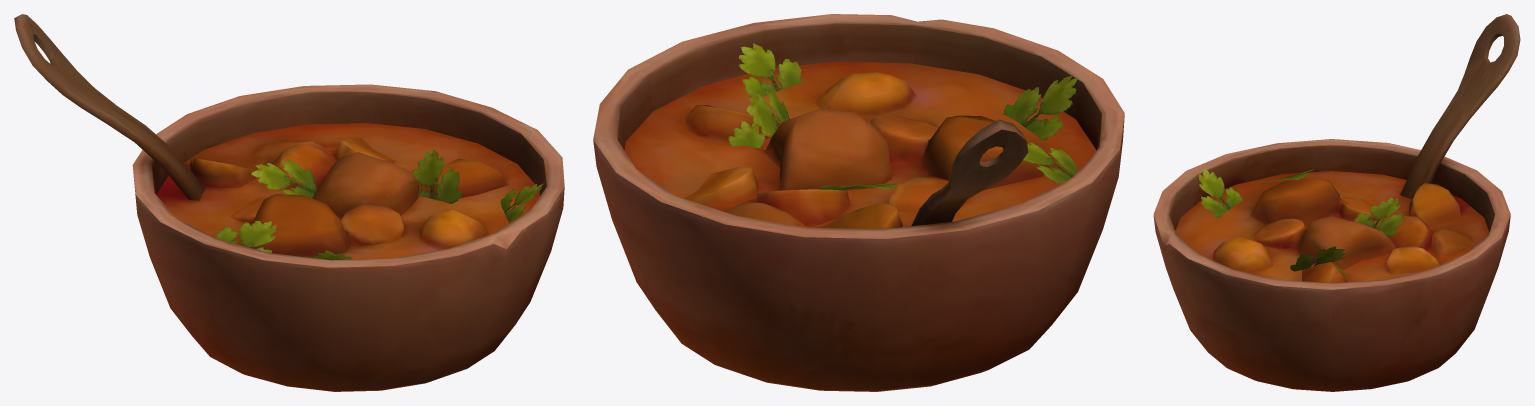
3 views of the same model, side by side, from view 1: azimuth 30°, elevation 25°; view 2: azimuth 150°, elevation 25°; view 3: azimuth 270°, elevation 25° (orthographic). The views are drawn at different scales.
Visible parts, largest first — view 1: SM_Item_Food_Soup_Pumpkin_LOD0; view 2: SM_Item_Food_Soup_Pumpkin_LOD0; view 3: SM_Item_Food_Soup_Pumpkin_LOD0.
Part boxes in pixels (x1,y1,x2,y2): SM_Item_Food_Soup_Pumpkin_LOD0: (14,14,564,391); SM_Item_Food_Soup_Pumpkin_LOD0: (593,14,1124,391); SM_Item_Food_Soup_Pumpkin_LOD0: (1153,14,1520,391).
Bounding box in the file's own units: 0.3455 × 0.2281 × 0.3193.
1 material, 1 textured.
